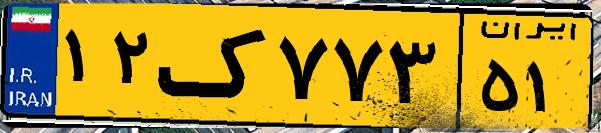1: (57, 26, 110, 100), (525, 38, 570, 115)
2: (110, 28, 158, 98)
3: (385, 28, 445, 110)
5: (475, 38, 525, 113)
7: (270, 28, 330, 110), (330, 28, 385, 110)
ک: (158, 12, 270, 120)
